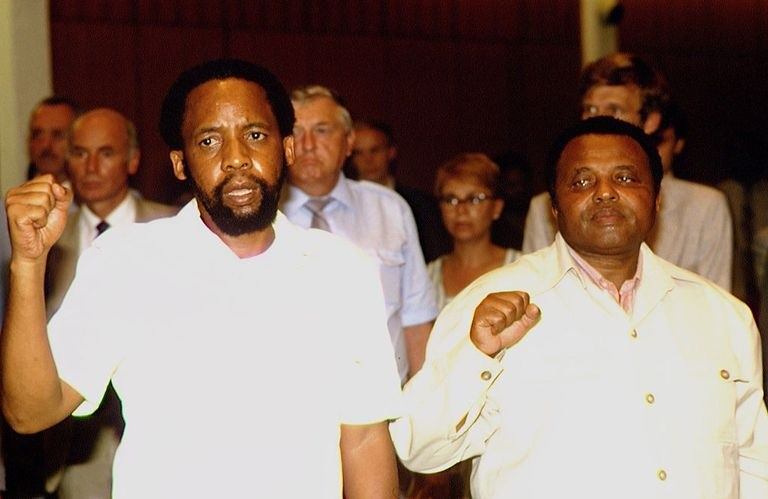face_no_mask: (171, 68, 293, 225), (548, 118, 662, 252), (66, 108, 141, 199), (577, 58, 660, 136), (295, 88, 356, 180), (433, 160, 500, 242), (26, 96, 71, 177), (358, 123, 395, 183)
